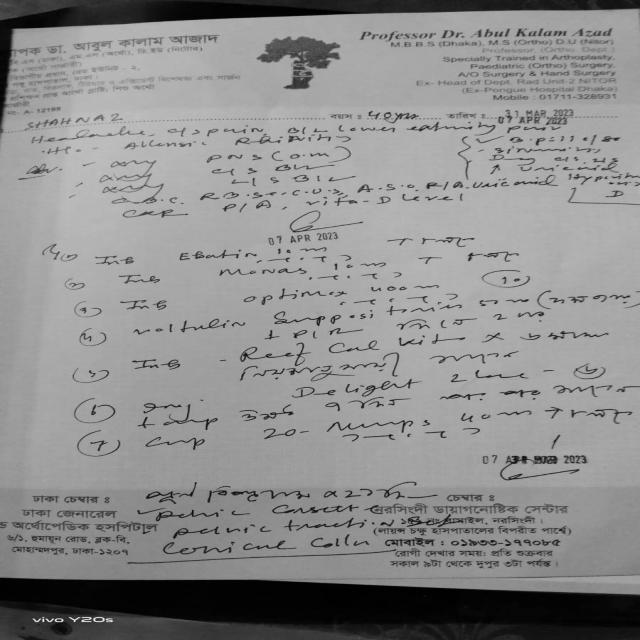medicine: (232, 332, 459, 362), (258, 416, 439, 442), (289, 376, 423, 400), (234, 286, 360, 309), (124, 318, 248, 338), (172, 246, 266, 262), (210, 264, 313, 278)
